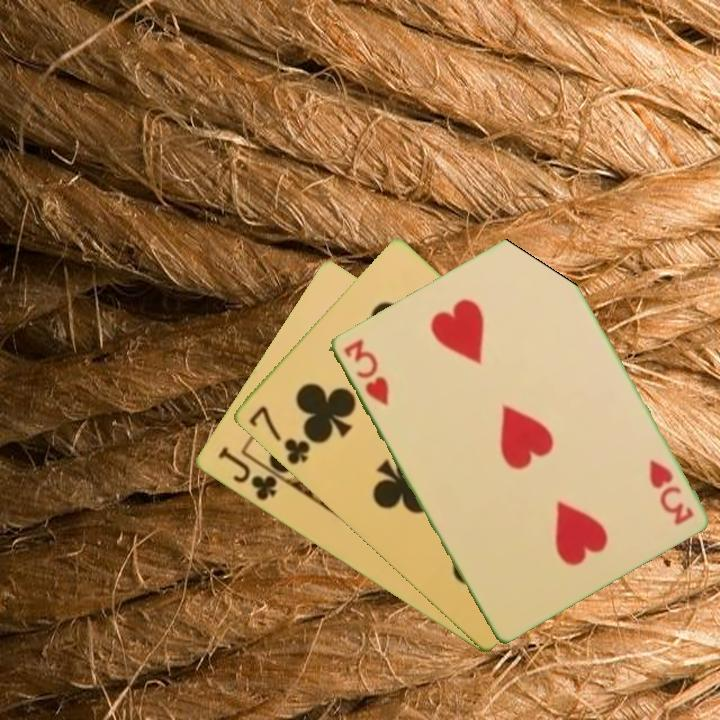3h: (339, 335, 392, 409), (644, 455, 696, 528)
7c: (245, 402, 313, 468)
Jc: (213, 443, 280, 504)
